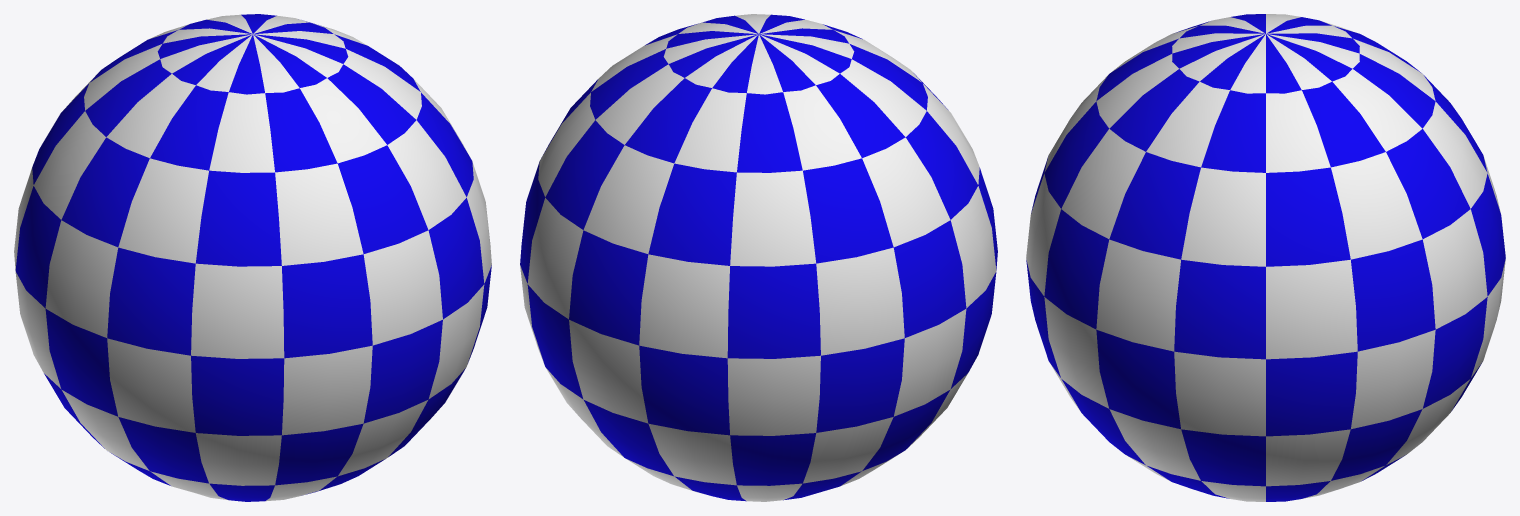
File: Smooth_Blue.fbx
3 renders of one model, left to right at view 1: azimuth 30°, elevation 25°; view 2: azimuth 150°, elevation 25°; view 3: azimuth 270°, elevation 25°, orthographic.
Parts seen in each view (by area): view 1: smooth_blue; view 2: smooth_blue; view 3: smooth_blue.
Boxes of the visible parts, x1,y1,x2,y2 form: smooth_blue: (14,14,491,501); smooth_blue: (520,14,997,501); smooth_blue: (1026,14,1505,501).
Size of the model in its own units: 1.92 by 1.98 by 1.92.
